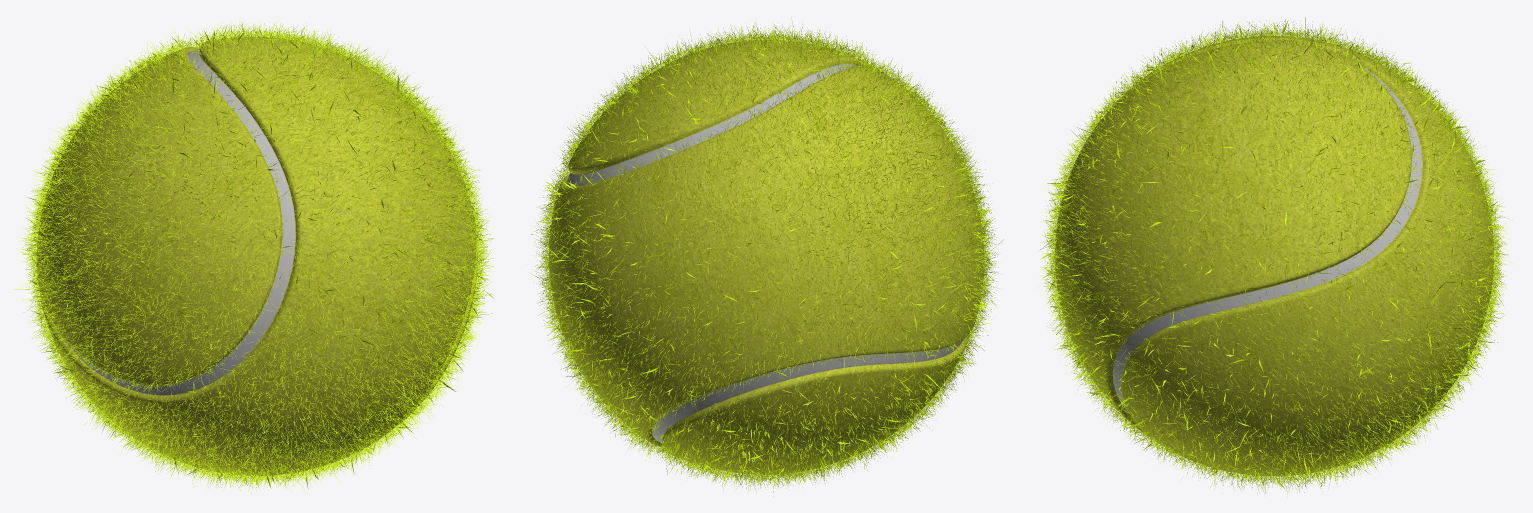
Rendered from tennis_ball_2_lo.glb.
3 renders of one model, left to right at view 1: azimuth 30°, elevation 25°; view 2: azimuth 150°, elevation 25°; view 3: azimuth 270°, elevation 25°, orthographic.
Visible parts, largest first — view 1: Object_2; view 2: Object_2; view 3: Object_2.
Part boxes in pixels (<box>): Object_2: <box>14,21,493,493</box>; Object_2: <box>531,19,1003,496</box>; Object_2: <box>1039,17,1512,494</box>.
Bounding box in the file's own units: 0.067 × 0.0668 × 0.0667.
2 materials, 1 textured.
